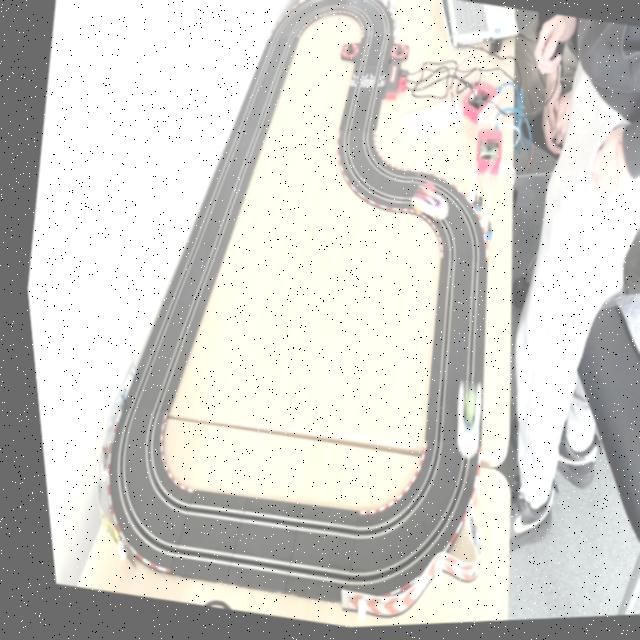mario: (401, 185, 450, 228)
yoshi: (437, 377, 484, 461)
